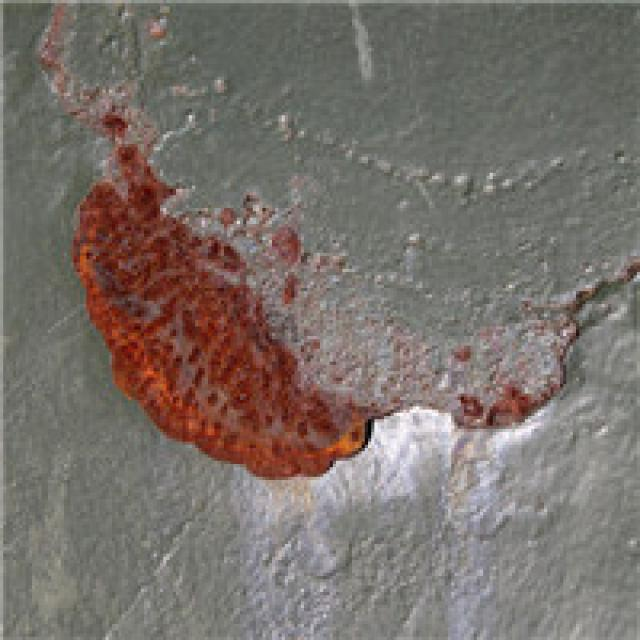Corrosion: (41, 4, 369, 480), (62, 96, 368, 480), (72, 141, 368, 480), (487, 385, 538, 427), (272, 225, 301, 265), (460, 395, 485, 418), (283, 273, 298, 304), (302, 337, 321, 353), (455, 346, 473, 362), (221, 208, 236, 226)
